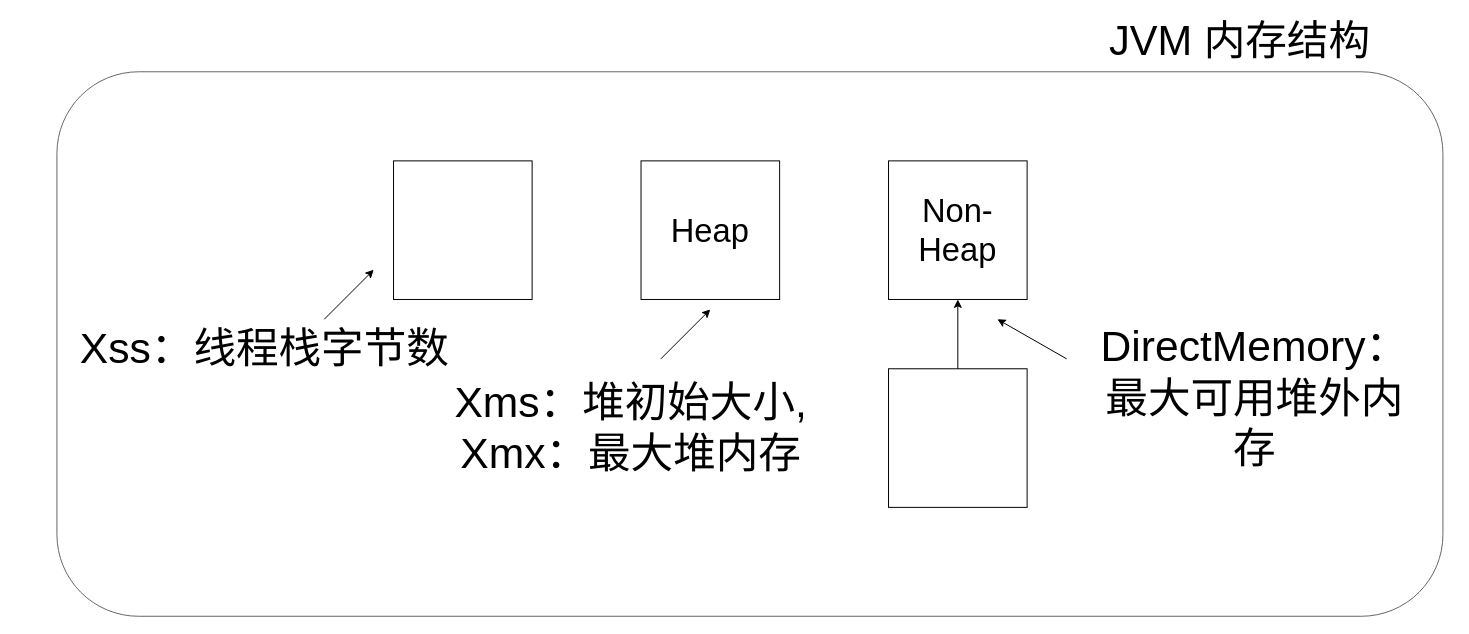
Image size: 1469x634. Some labels were removed from this diagram. The centre of each missing label's shape, as x and y in pixels:
Meta: point 957,437
Stack: point 462,229
